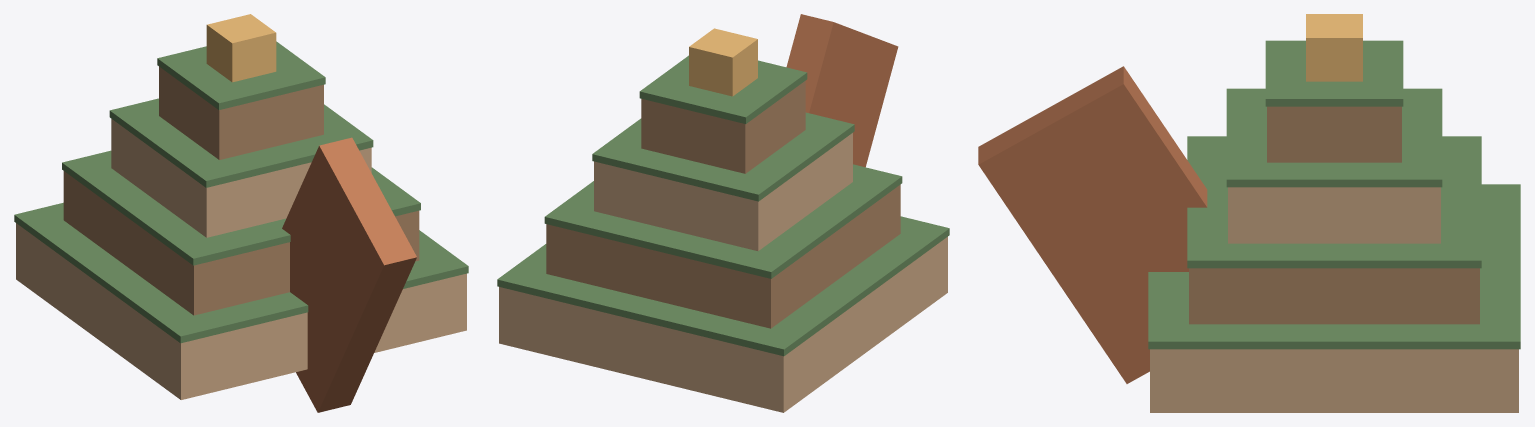
The model's file is ziggurat.glb.
3 renders of one model, left to right at view 1: azimuth 30°, elevation 25°; view 2: azimuth 150°, elevation 25°; view 3: azimuth 270°, elevation 25°, orthographic. The views are drawn at different scales.
Visible parts, largest first — view 1: stair, terrace0, terrace1, detail_plants0, terrace2, terrace3, detail_plants1, detail_plants2, detail_plants3, shrine; view 2: terrace0, terrace1, detail_plants0, terrace2, detail_plants1, stair, terrace3, detail_plants2, detail_plants3, shrine; view 3: stair, terrace0, detail_plants0, terrace1, detail_plants1, terrace2, detail_plants2, terrace3, detail_plants3, shrine.
Boxes of the visible parts, x1,y1,x2,y2 form: stair: (282,137,416,412); terrace0: (16,223,466,399); terrace1: (63,171,419,315); detail_plants0: (14,202,468,343); terrace2: (111,119,371,237); terrace3: (159,66,323,159); detail_plants1: (62,150,420,265); detail_plants2: (109,98,373,187); detail_plants3: (157,41,325,109); shrine: (206,14,276,82); terrace0: (499,237,947,412); terrace1: (546,184,900,328); detail_plants0: (497,216,949,356); terrace2: (594,133,852,250); detail_plants1: (544,164,902,278); stair: (786,14,898,167); terrace3: (641,81,805,173); detail_plants2: (592,112,854,201); detail_plants3: (639,55,807,123); shrine: (689,28,757,96); stair: (978,66,1207,383); terrace0: (1150,349,1518,412); detail_plants0: (1148,184,1520,349); terrace1: (1189,268,1479,324); detail_plants1: (1187,136,1481,268); terrace2: (1228,187,1440,243); detail_plants2: (1226,88,1442,187); terrace3: (1267,106,1401,162); detail_plants3: (1265,40,1403,106); shrine: (1306,14,1362,81).
Size of the model in its own units: 2.62 by 2.71 by 3.82.
